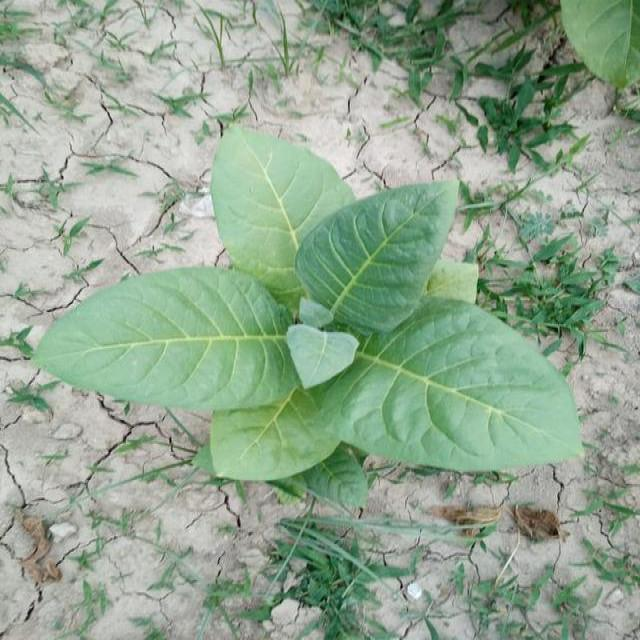crop: (32, 135, 564, 491)
